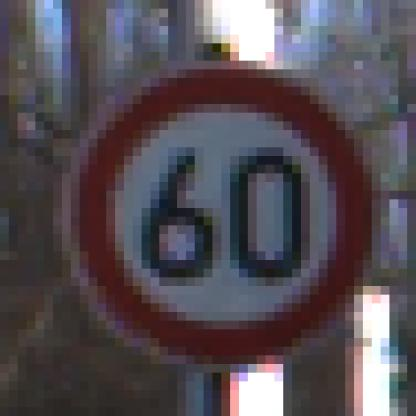Speed Limit 60: (69, 65, 368, 363)
